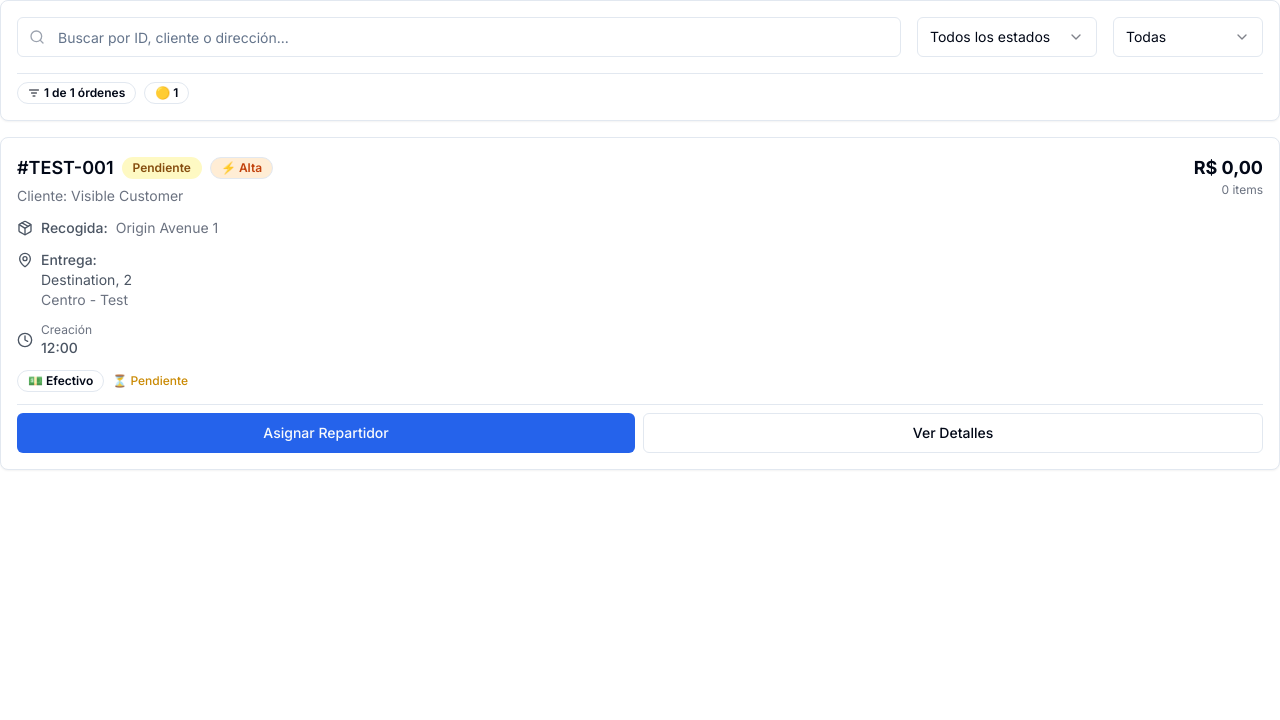
Test: does not close on a mismatched HTTP success response
Click the button "Asignar Repartidor". click: x=326, y=433
box: [17,413,635,453]
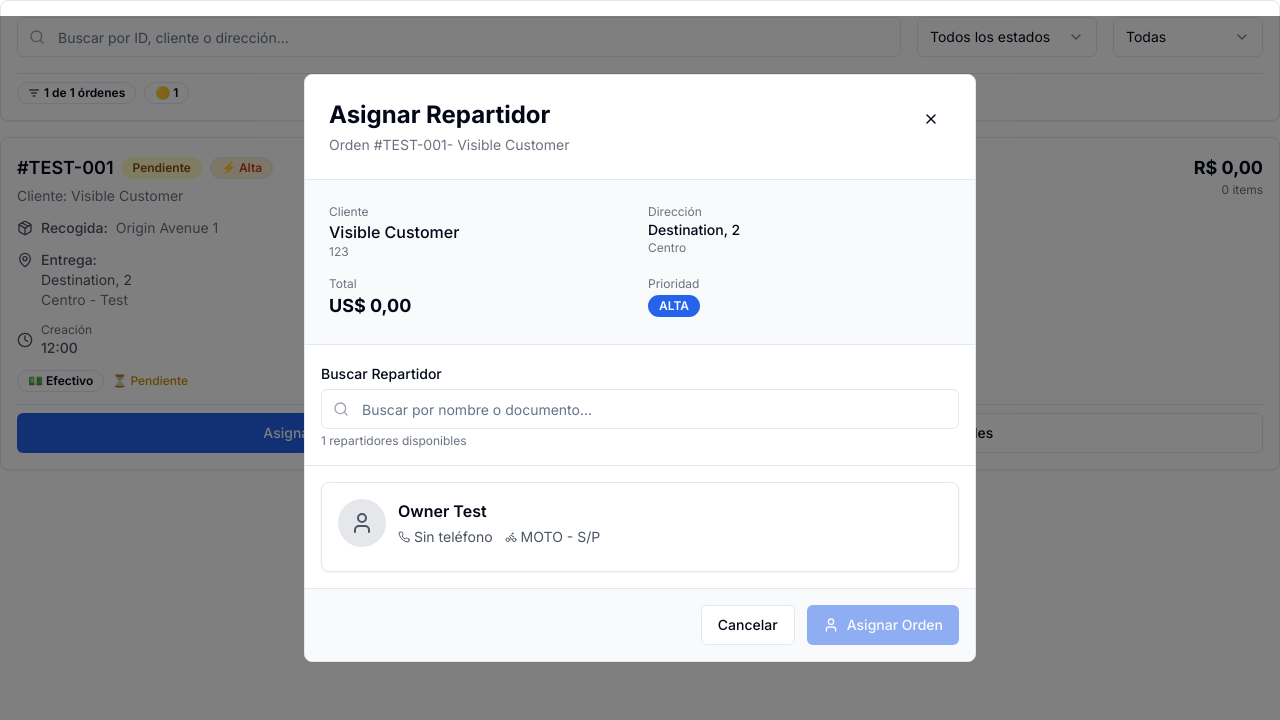
Click the button "Owner Test Sin teléfono MOTO - S/P". click: x=362, y=523
box: [321,482,959,572]
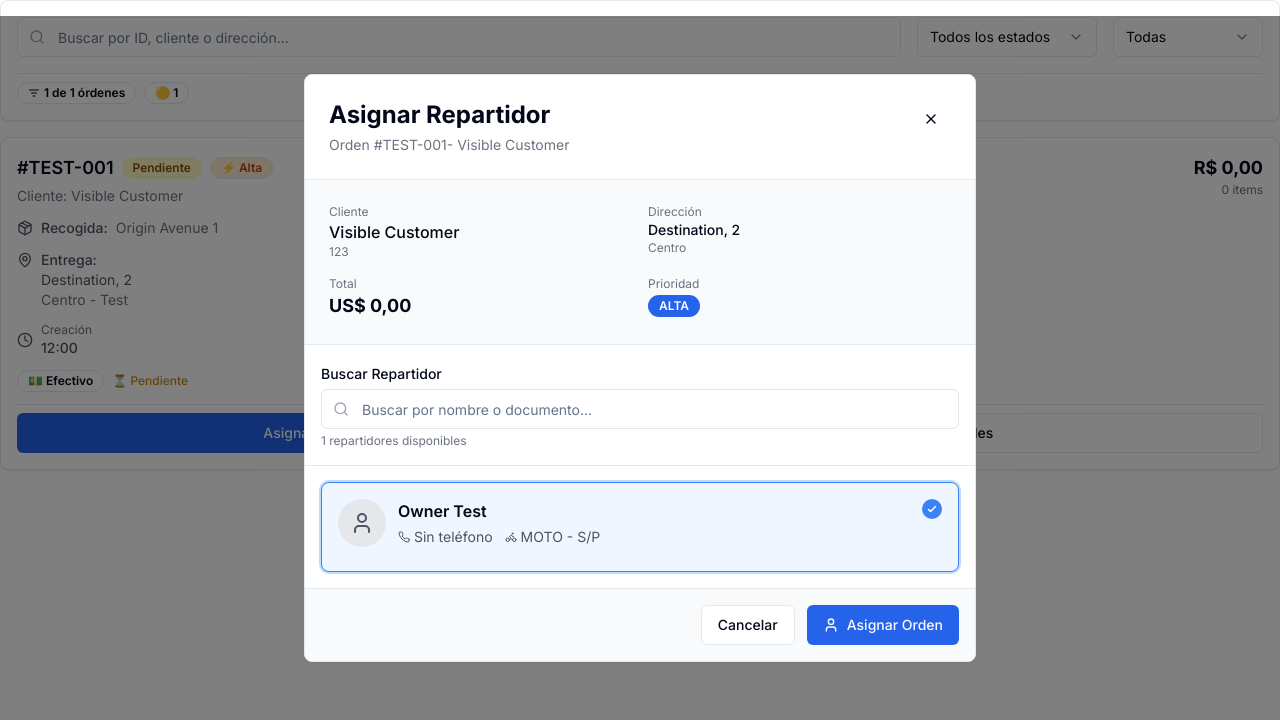
Click the button "Asignar Orden". click: x=883, y=625
box: [807,605,959,645]
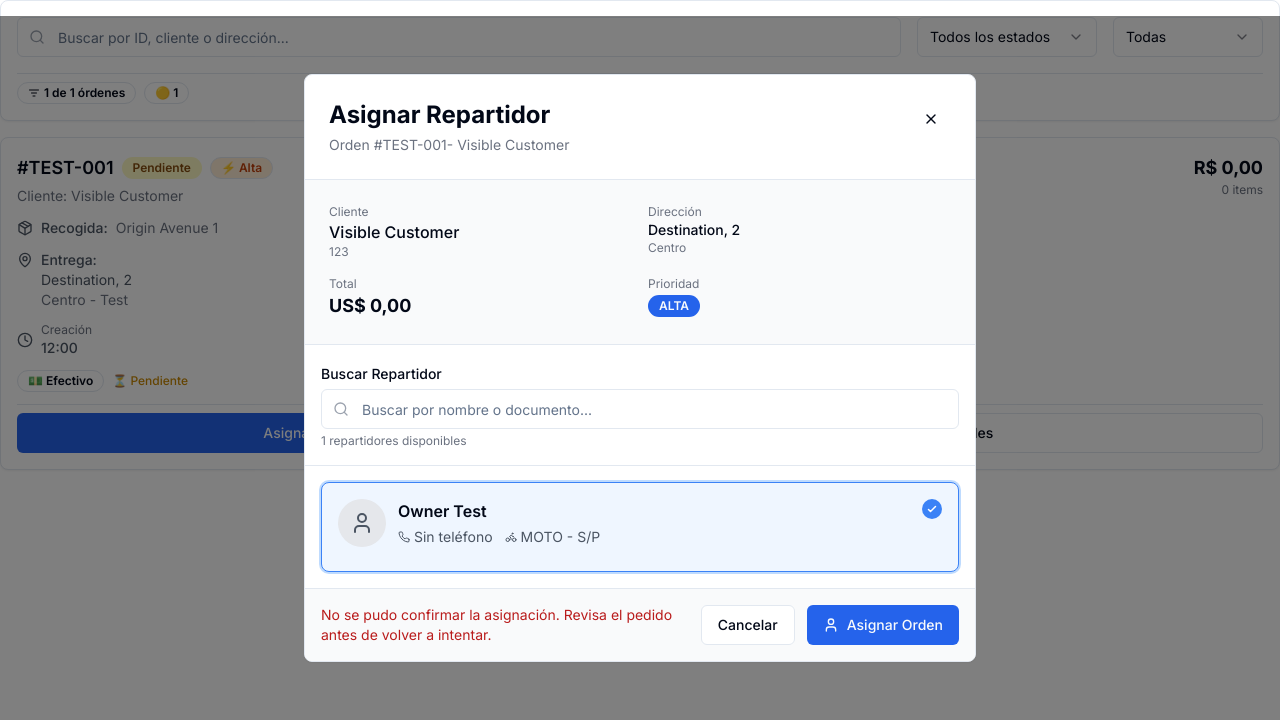
Expected: the button named "Cerrar asignación" is enabled, [911,99,951,139]
Expected: the message is shown, [321,605,689,645]
